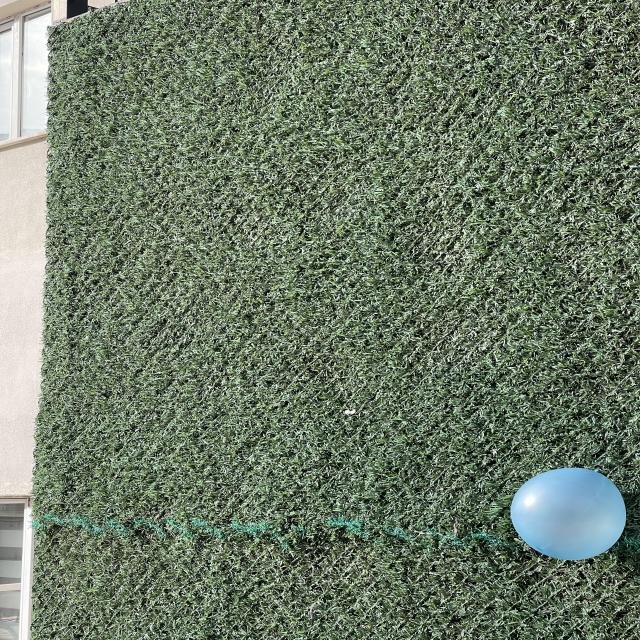balloon: (511, 468, 626, 560)
